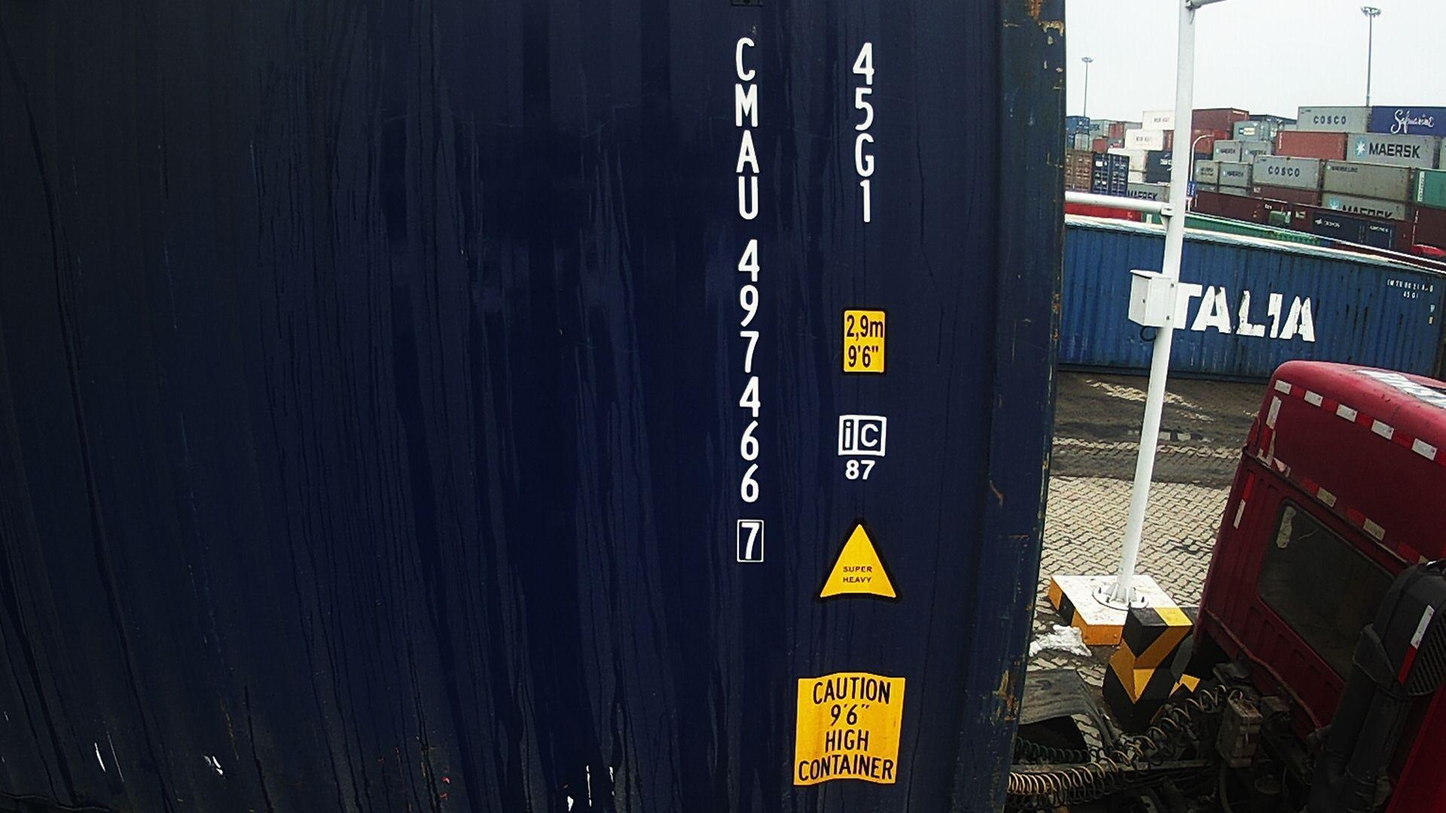container-numbers: (727, 30, 769, 568), (847, 35, 887, 231)
